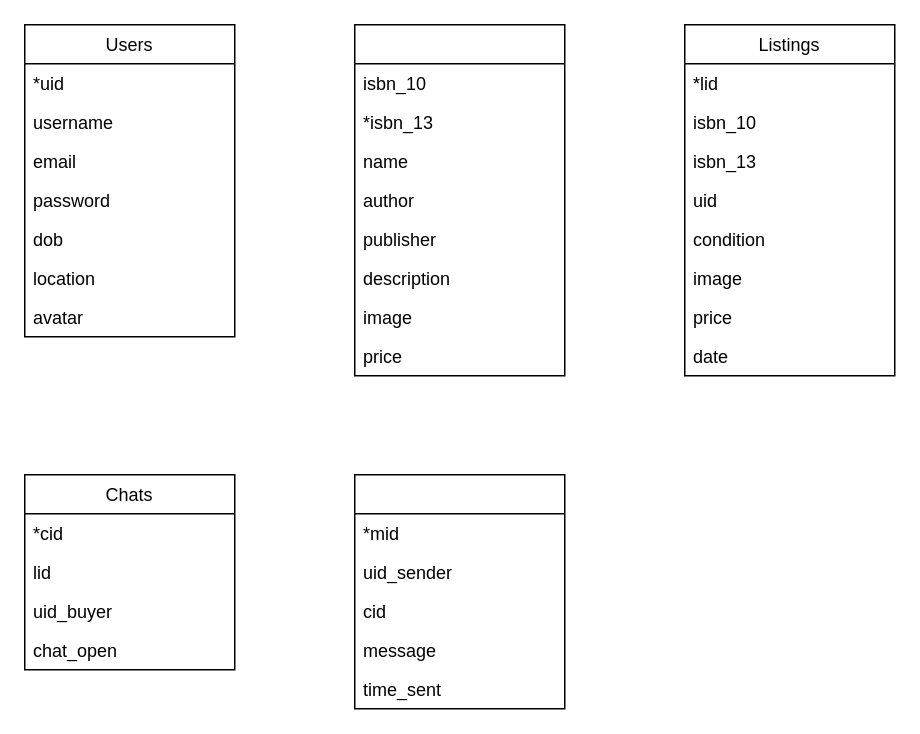
This 920x734 diagram has some shape labels left out. The shapes that lost their labels are listed below. From the top down, each one's box as (x1, y1, x2, y2) in pixels, then its label:
(353, 23, 565, 376): Books
(353, 473, 565, 709): Messages
